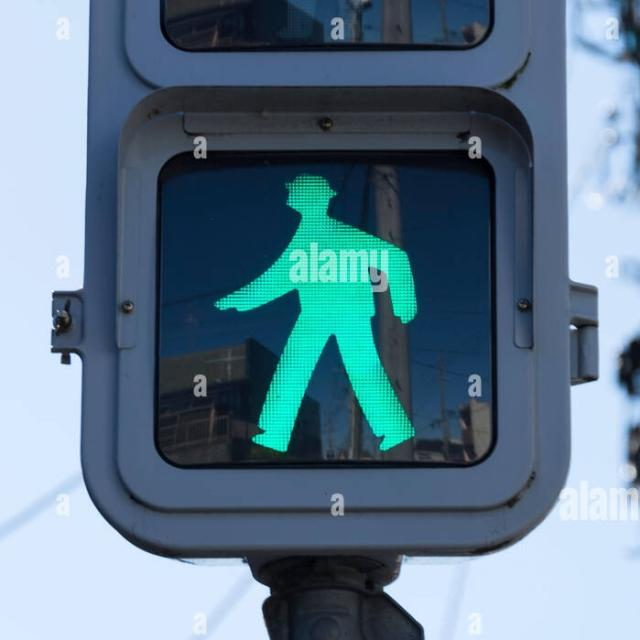green_light: (219, 165, 435, 458)
